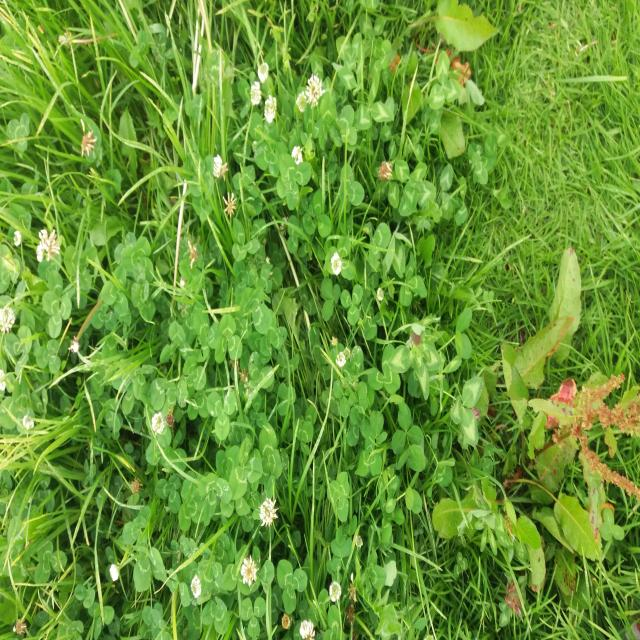Four Leaf Clover: (240, 287, 271, 333)
